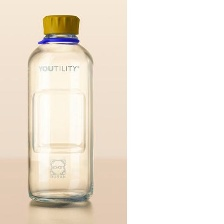bottle: (20, 7, 103, 207)
